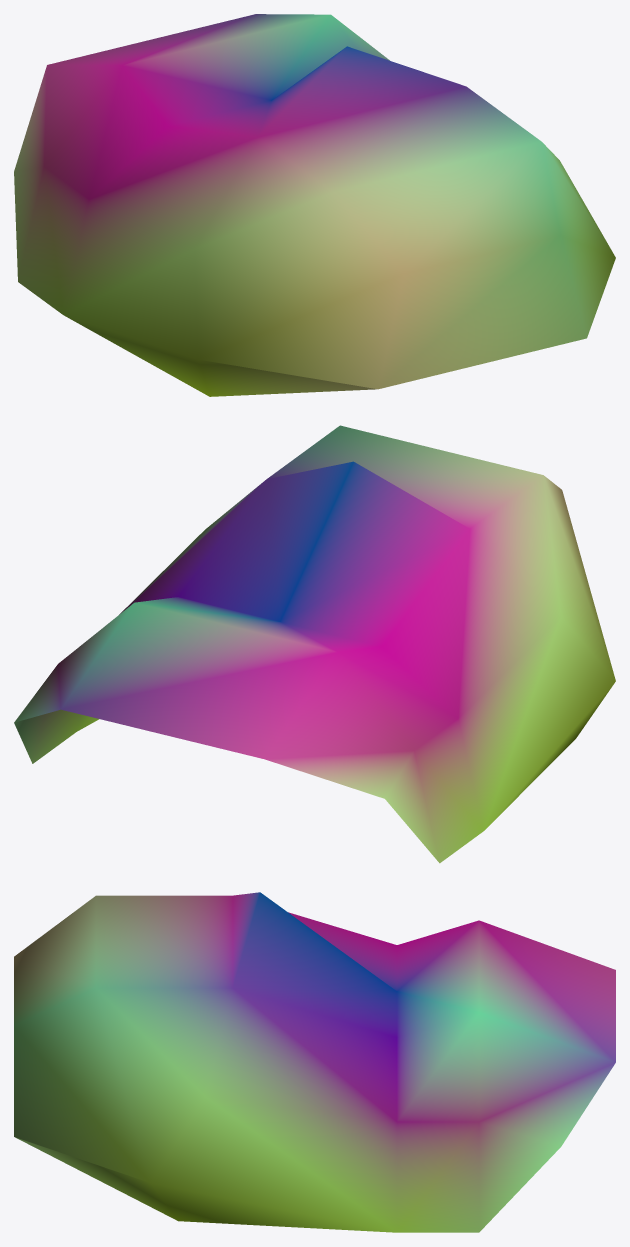
The picture shows the model from 3 angles, top to bottom: view 1: azimuth 30°, elevation 25°; view 2: azimuth 150°, elevation 25°; view 3: azimuth 270°, elevation 25°; orthographic projection. The views are drawn at different scales.
Visible parts, largest first — view 1: part; view 2: part; view 3: part.
Part boxes in pixels (<box>): part: <box>14,14,615,396</box>; part: <box>14,425,615,863</box>; part: <box>14,892,615,1232</box>.
Size of the model in its own units: 16 by 10 by 22.
